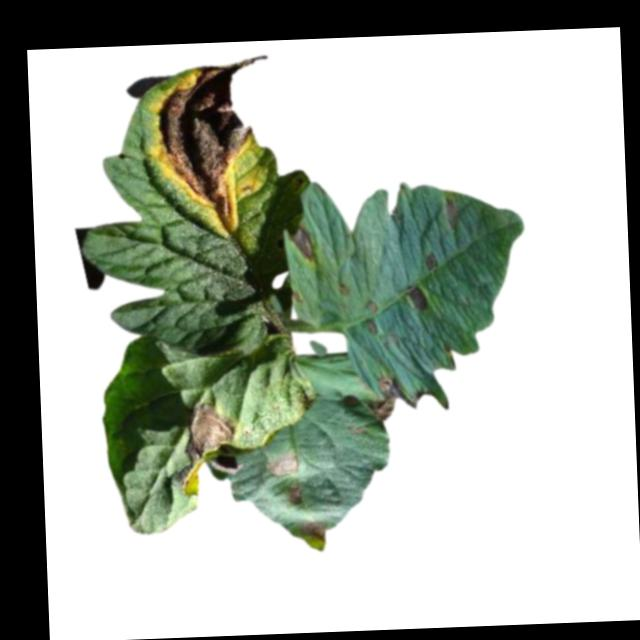Early_blight: (156, 50, 274, 233), (172, 398, 250, 499), (368, 374, 406, 420), (291, 225, 317, 267), (439, 192, 461, 230), (267, 453, 300, 476), (405, 283, 428, 314), (304, 518, 327, 543), (286, 481, 306, 507), (423, 252, 442, 272), (367, 296, 381, 314), (339, 282, 352, 293)
